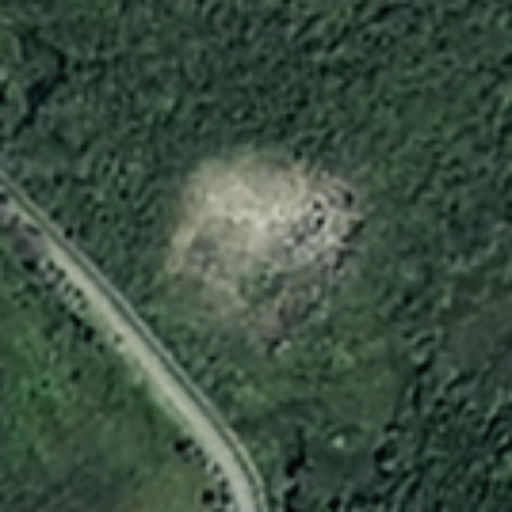landslide: (175, 151, 366, 275)
